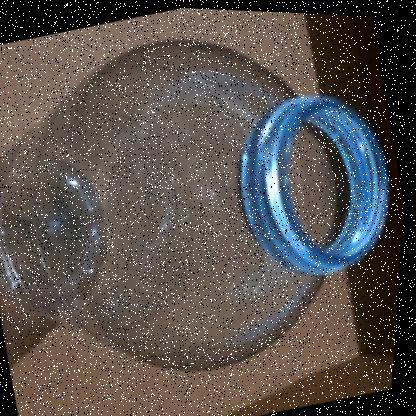open bottle: (1, 1, 416, 416)
